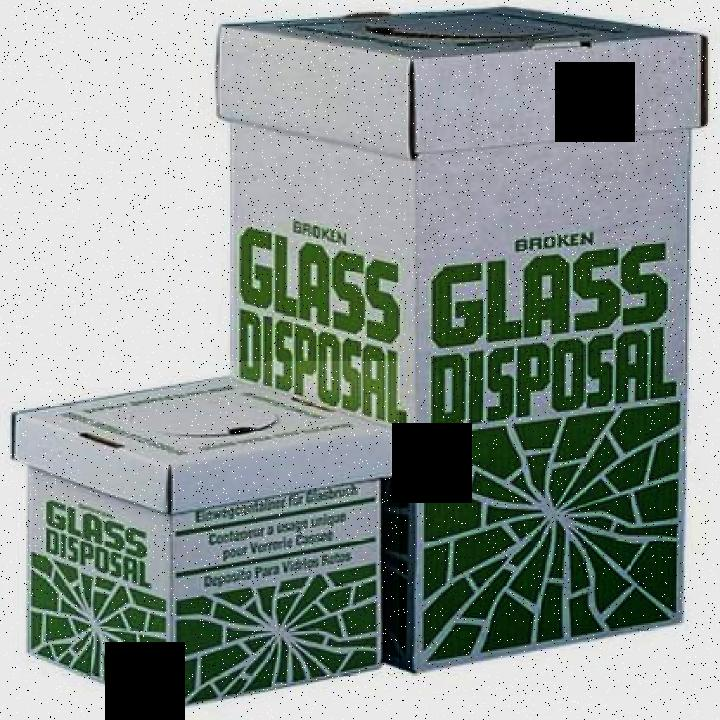box: (204, 8, 710, 696), (1, 361, 399, 709)
